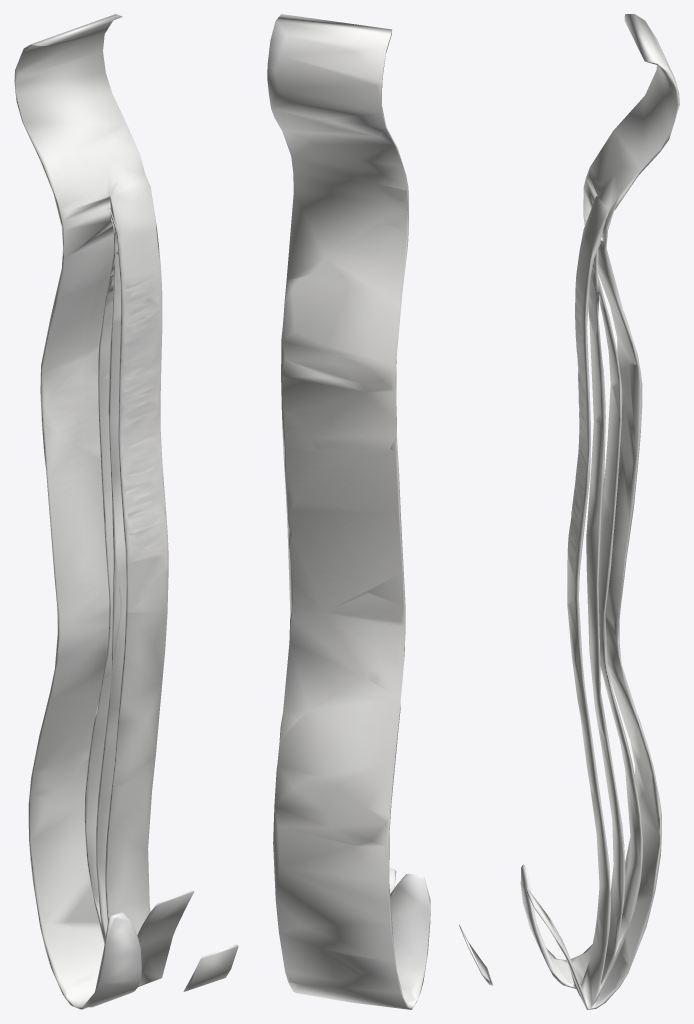
Rendered from extensor-tendon.glb.
3 renders of one model, left to right at view 1: azimuth 30°, elevation 25°; view 2: azimuth 150°, elevation 25°; view 3: azimuth 270°, elevation 25°, orthographic. The views are drawn at different scales.
Parts seen in each view (by area): view 1: extensor-tendon; view 2: extensor-tendon; view 3: extensor-tendon.
Part boxes in pixels (<box>): extensor-tendon: <box>14,14,238,1009</box>; extensor-tendon: <box>267,14,430,1009</box>; extensor-tendon: <box>459,14,679,1009</box>.
Size of the model in its own units: 0.1423 by 1 by 0.2116.
1 material, 1 textured.
